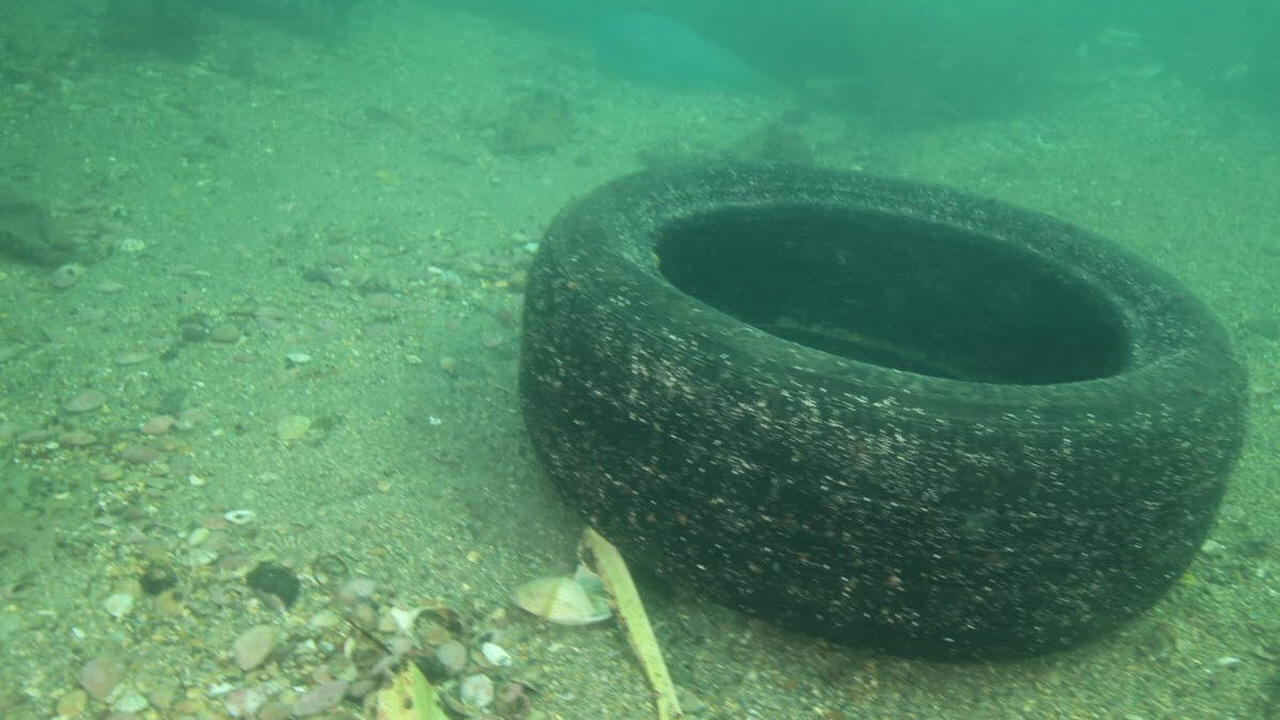tire: (518, 158, 1249, 660)
